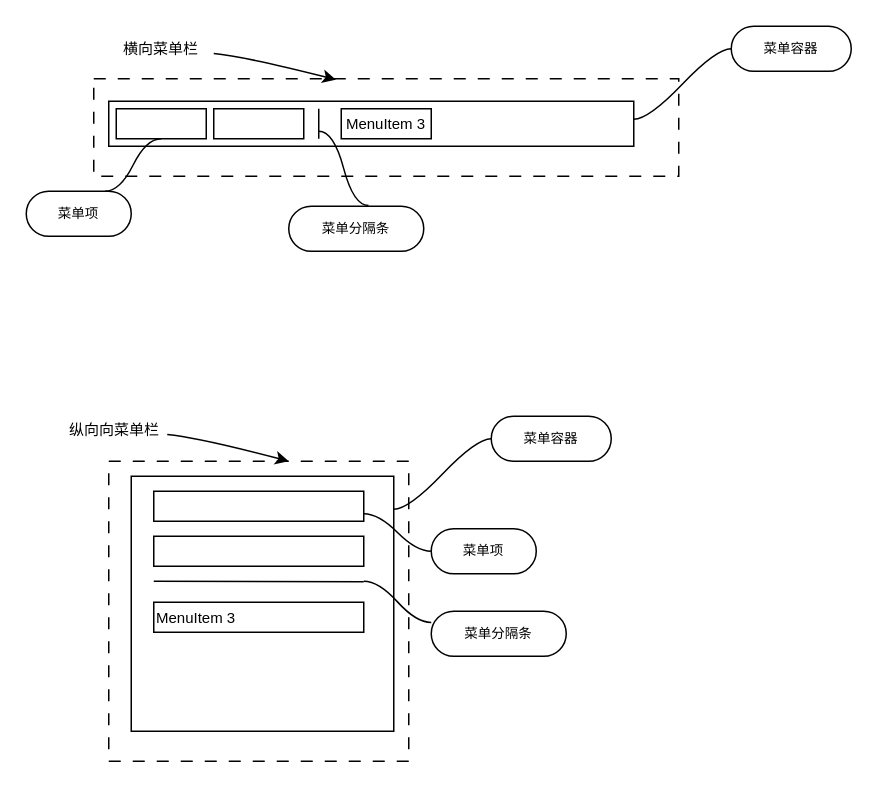
Some shapes in this 878 by 788 pixel diagram are drawn without their labels. The centre of each missing label's shape, as x and y in pixels:
"MenuItem 1" goes at pixel 160 123.
"MenuItem 1 HotKey" goes at pixel 258 505.
"MenuItem 2" goes at pixel 258 123.
"MenuItem 2 >" goes at pixel 258 550.
